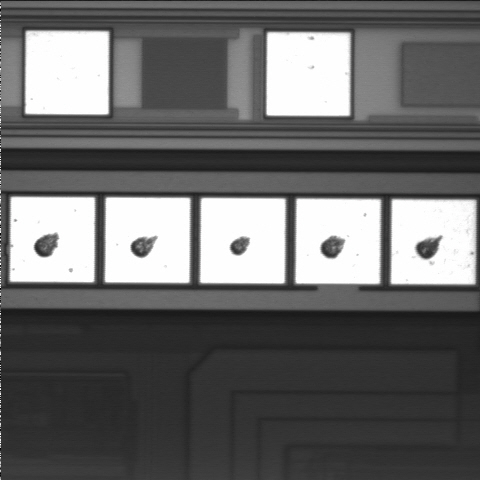pad: (10, 197, 95, 282), (105, 198, 190, 283), (200, 198, 285, 283), (296, 199, 380, 284), (391, 200, 476, 284), (25, 31, 109, 114), (267, 32, 350, 116)
